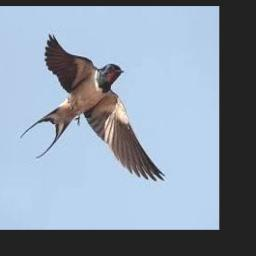Swallow: (20, 33, 167, 180)
